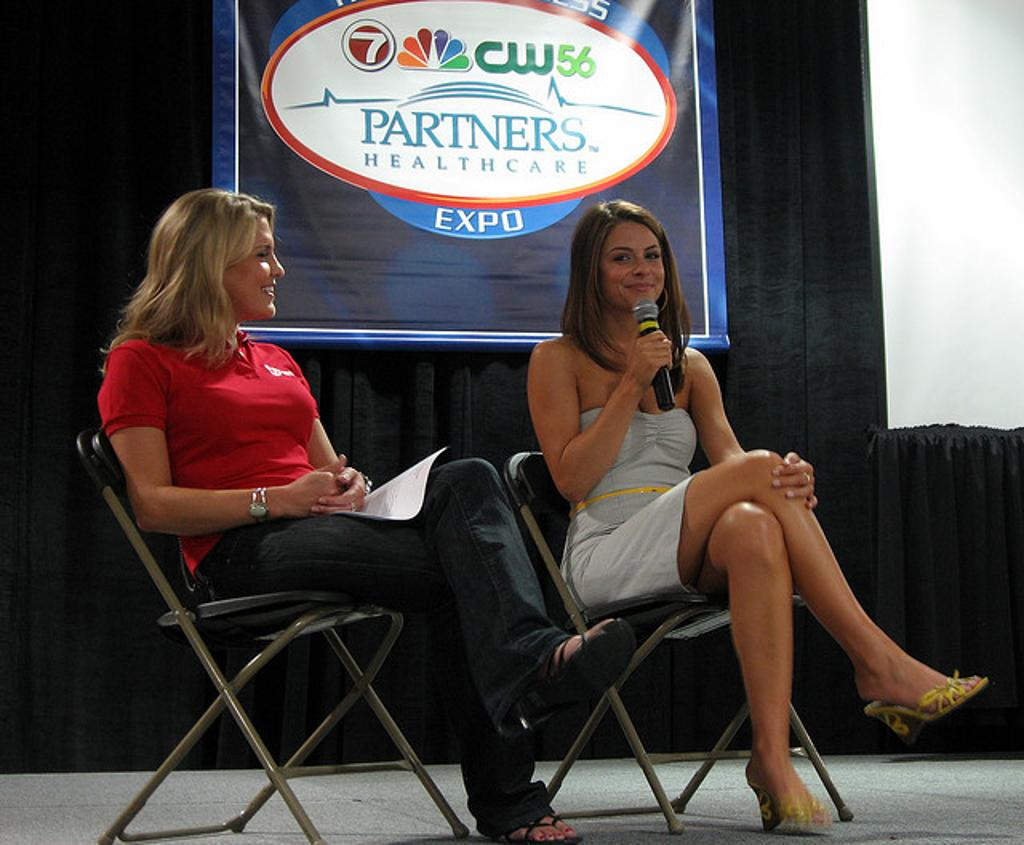face: (222, 208, 282, 312), (608, 224, 668, 302)
